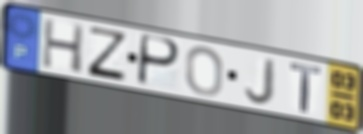H: (41, 16, 87, 76)
J: (243, 57, 278, 106)
O: (184, 45, 226, 98)
P: (135, 32, 183, 89)
T: (288, 61, 323, 115)
Z: (85, 24, 129, 84)
